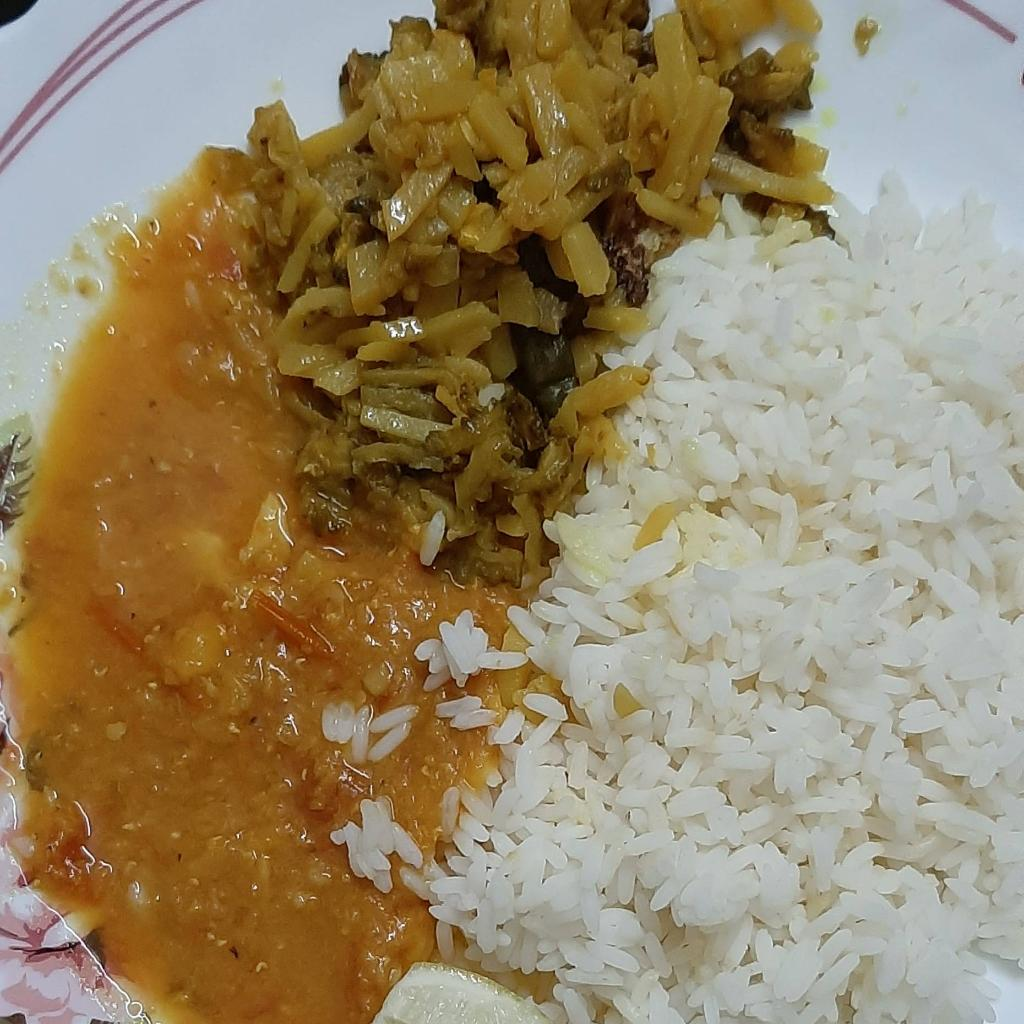daal: (14, 151, 493, 1023)
rice: (334, 186, 1021, 1023)
vaji: (258, 1, 838, 596)
